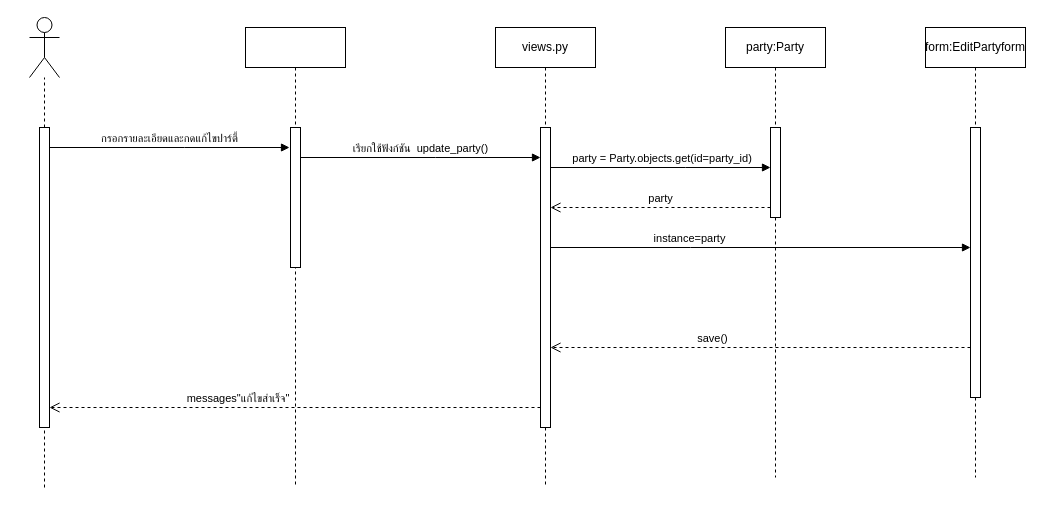
The diagram is 1043 pixels wide and 506 high, and some of its shapes have lost their labels. The centre of each missing label's shape, as x and y in pixels:
"updateParty.html" goes at pixel 295 257.
"เจ้าของปาร์ตี้" goes at pixel 44 47.
